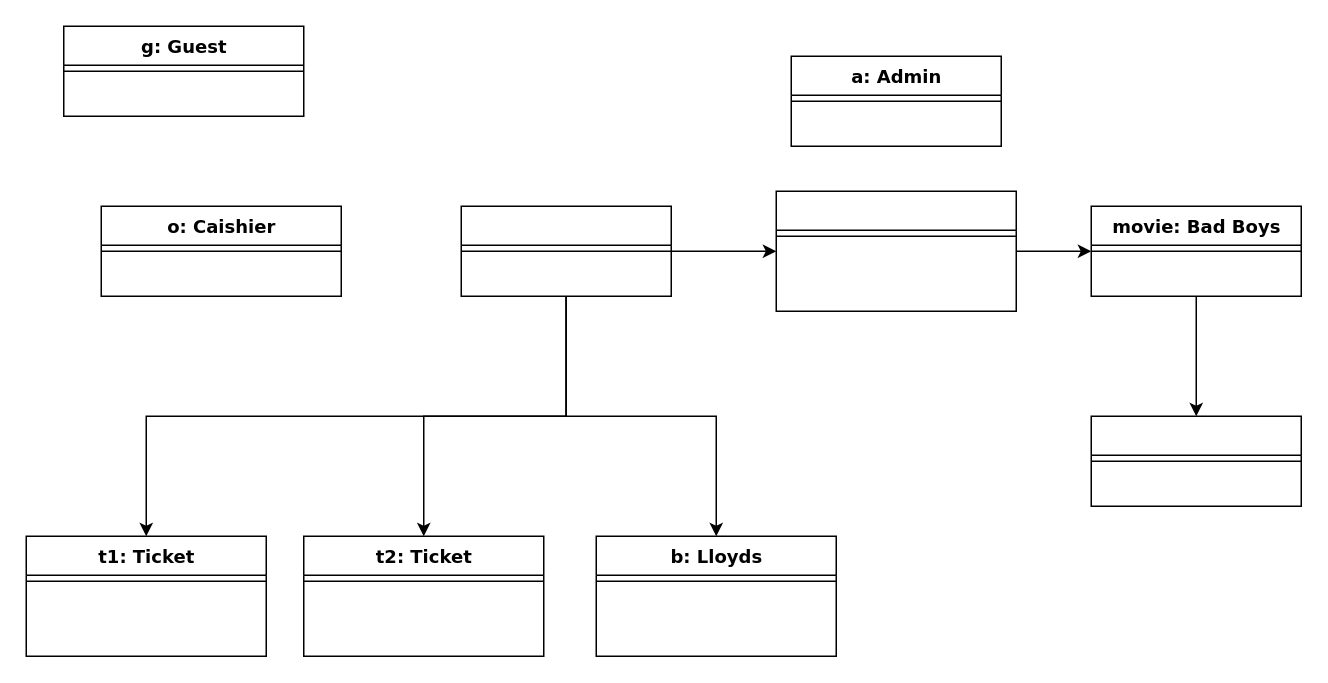
Some shapes in this 1328 by 683 pixel diagram are drawn without their labels. The shapes that lost their labels are listed below. From the top down, each one's centre as x and y in pixels, then its label:
At (565,250): "c: Customer".
At (895,250): "cine: Grand Rex".
At (1195,460): "session: 10Am".
